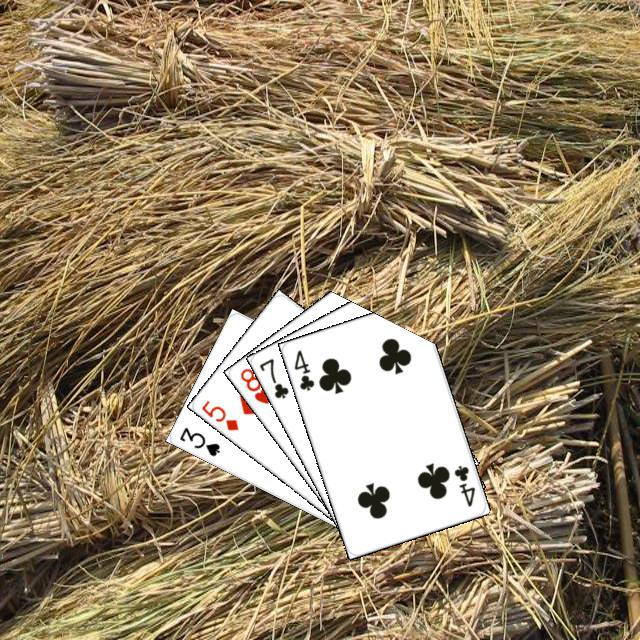3s: (174, 422, 222, 458)
4c: (449, 460, 477, 509), (289, 345, 316, 393)
5d: (197, 395, 240, 432)
7c: (254, 353, 290, 400)
8h: (235, 363, 271, 406)
